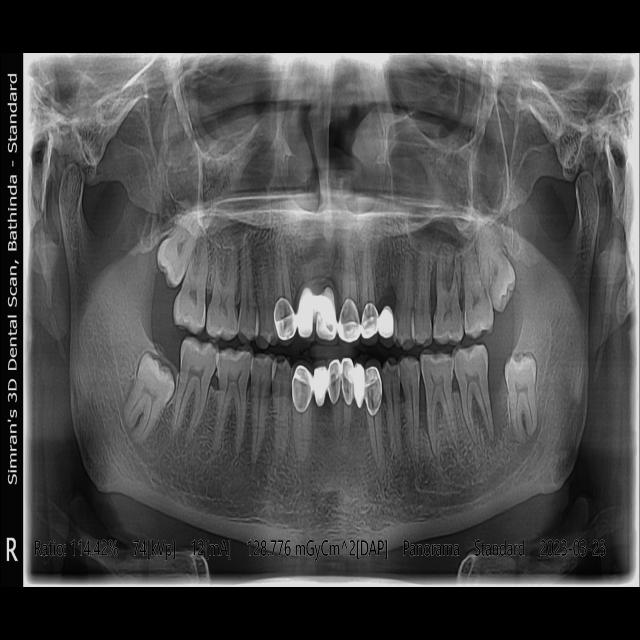impacted tooth: (124, 352, 175, 444), (158, 214, 204, 287), (478, 226, 515, 312), (505, 354, 538, 442)
